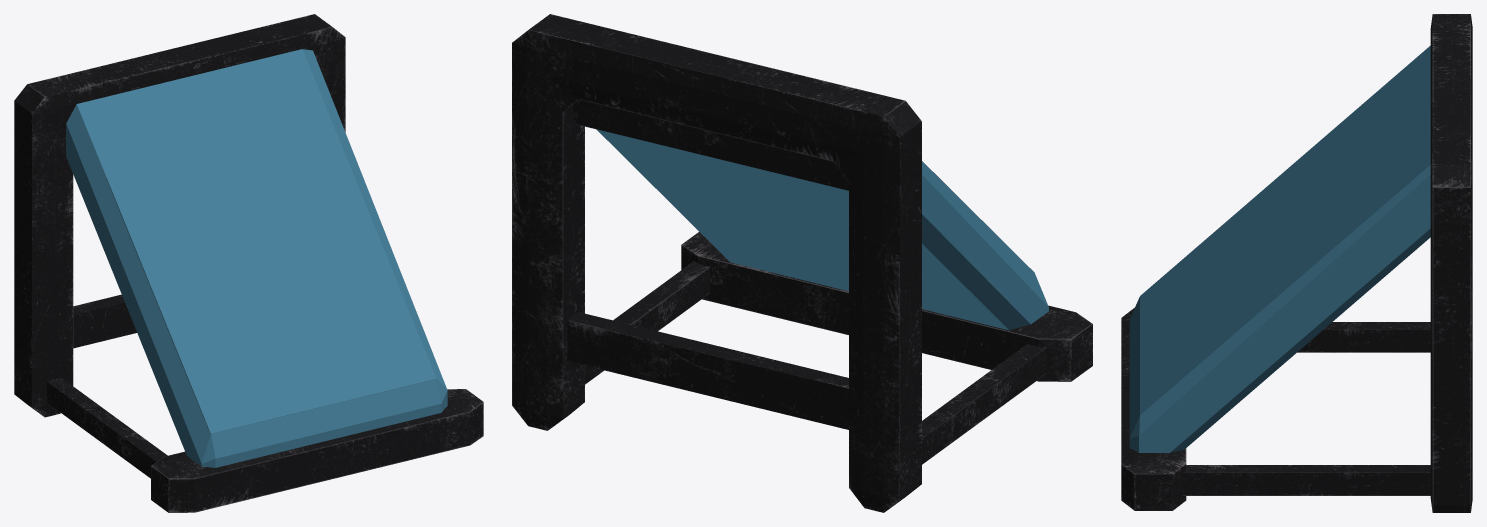
Rendered from MirrorFirm.gltf.
3 views of the same model, side by side, from view 1: azimuth 30°, elevation 25°; view 2: azimuth 150°, elevation 25°; view 3: azimuth 270°, elevation 25° (orthographic). The views are drawn at different scales.
Parts seen in each view (by area): view 1: Cube.022; view 2: Cube.022; view 3: Cube.022.
Boxes of the visible parts, <box> form: Cube.022: <box>14,14,483,512</box>; Cube.022: <box>512,14,1092,512</box>; Cube.022: <box>1121,14,1472,512</box>.
Size of the model in its own units: 2.55 by 2.48 by 2.28.
1 material, 1 textured.
